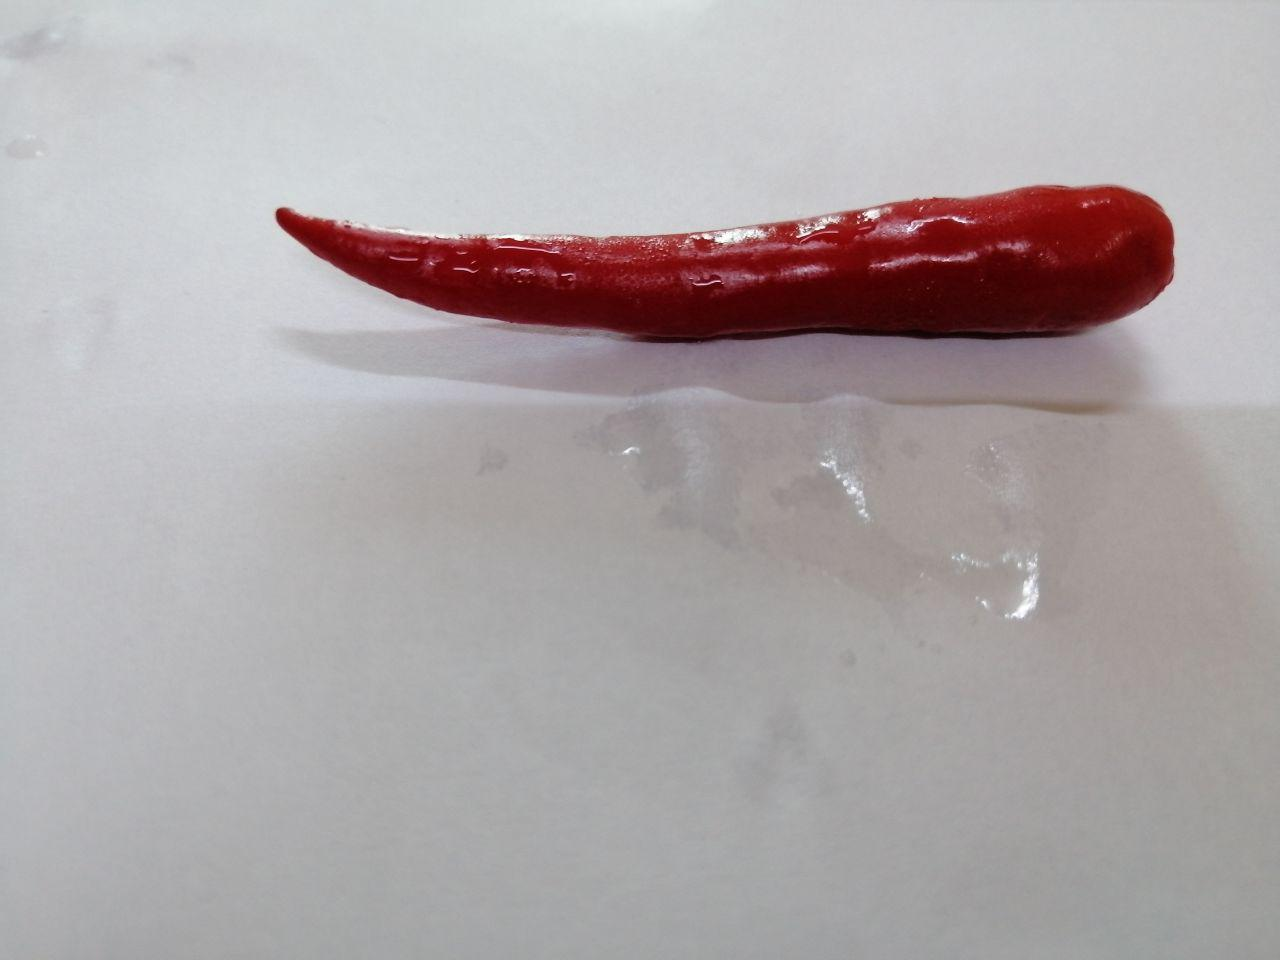lada merah: (265, 172, 1187, 350)
